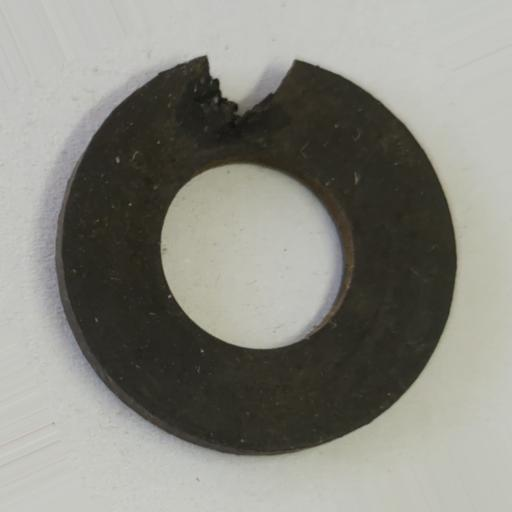defect: (175, 51, 298, 150)
